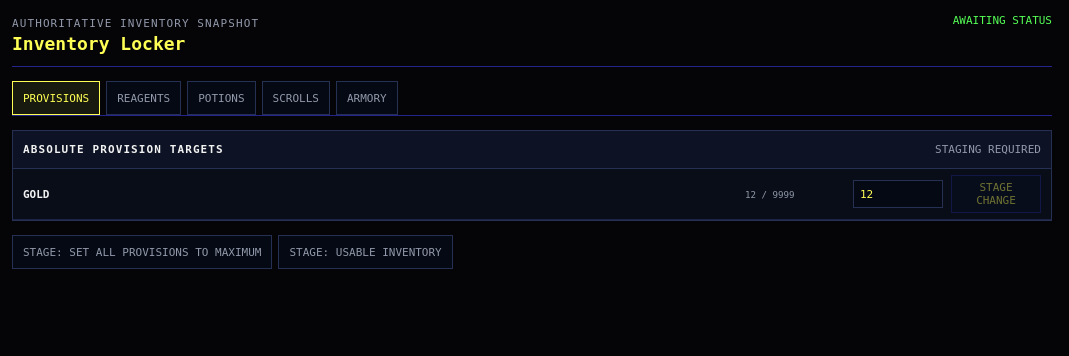
Test: InventoryLocker review authority › shows invalid target 1.5 without granting review authority
Replace the text in the number field named "gold target quantity" with "20" at (898, 194), box [853,180,943,208]
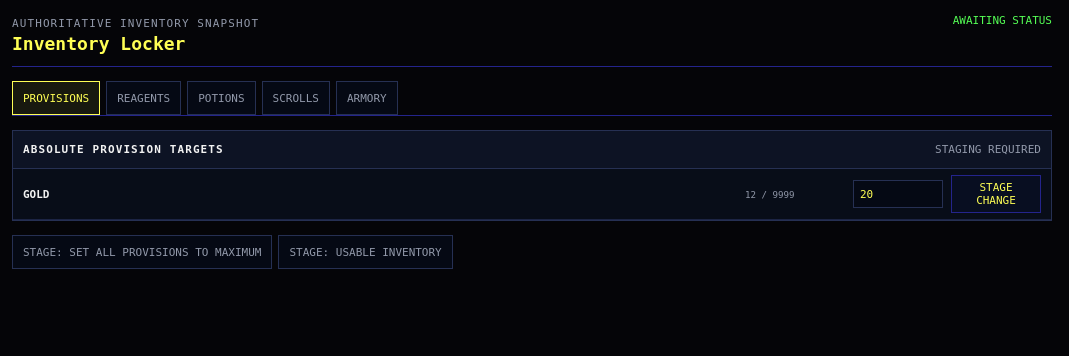
Click the button "STAGE CHANGE" at (996, 194), box [951,175,1041,213]
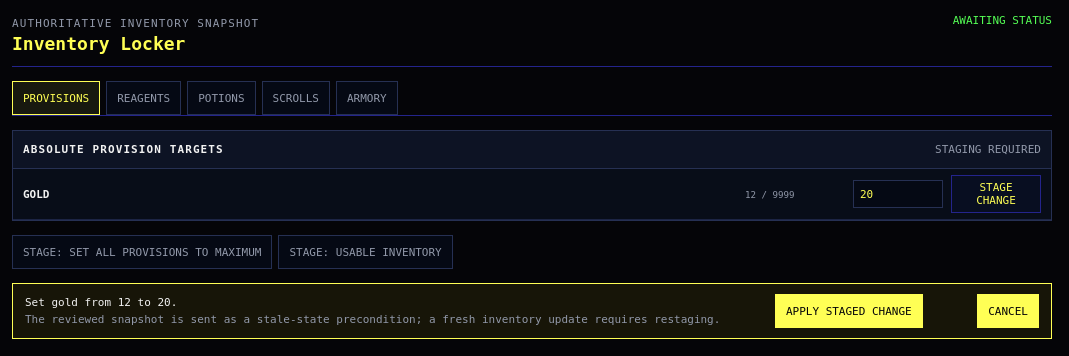
Replace the text in the number field named "gold target quantity" with "1.5" at (898, 194), box [853,180,943,208]
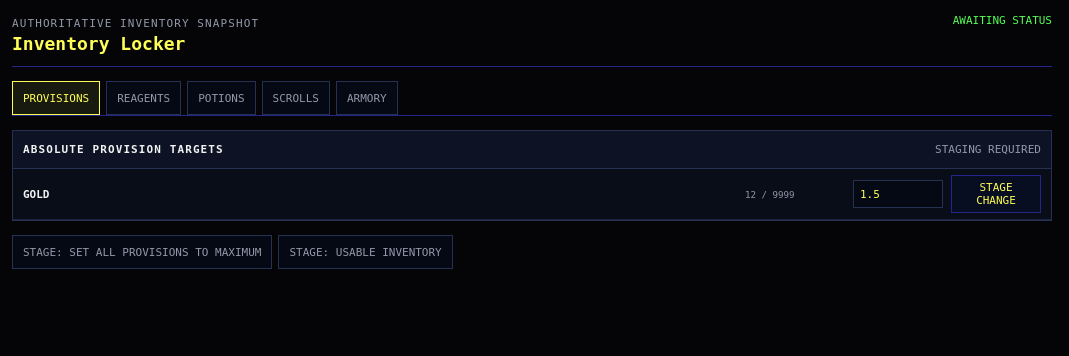
Click the button "STAGE CHANGE" at (996, 194), box [951,175,1041,213]
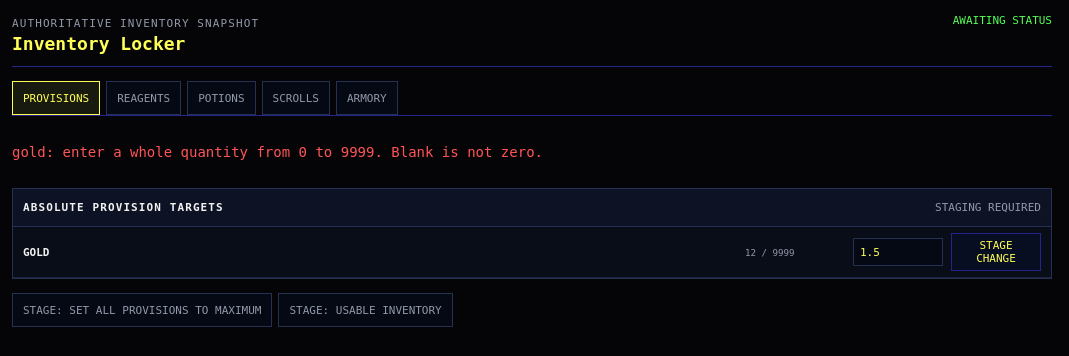
Result: the message "gold: enter a whole quantity from 0 to 9999. Blank is not zero." is shown at [12,144,543,160]
